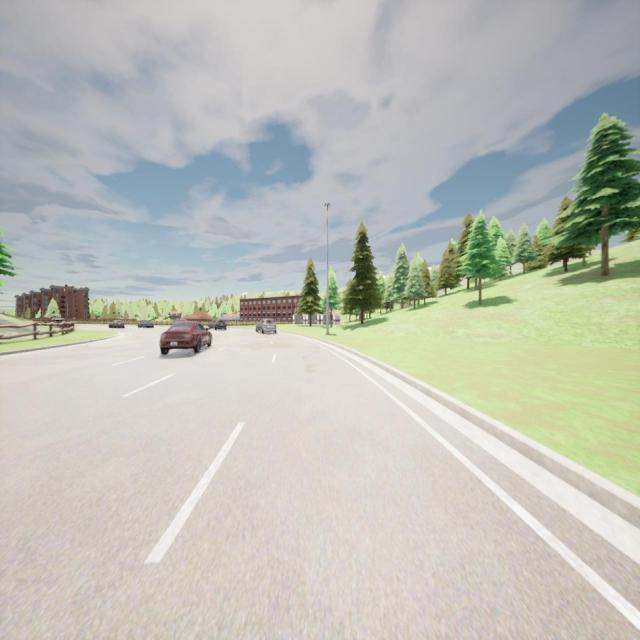Vehicle: (160, 322, 211, 356), (256, 320, 277, 336), (214, 317, 227, 334), (137, 318, 155, 330), (106, 318, 125, 329), (52, 315, 66, 326)
